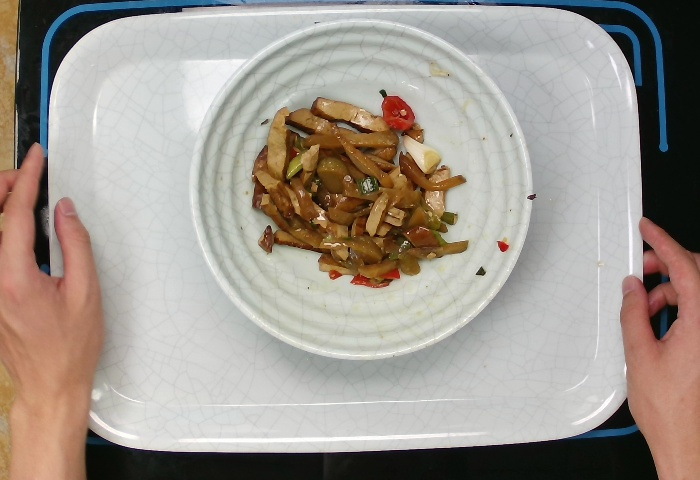JYsf-Da_Tang_Wan: (182, 11, 542, 372)
